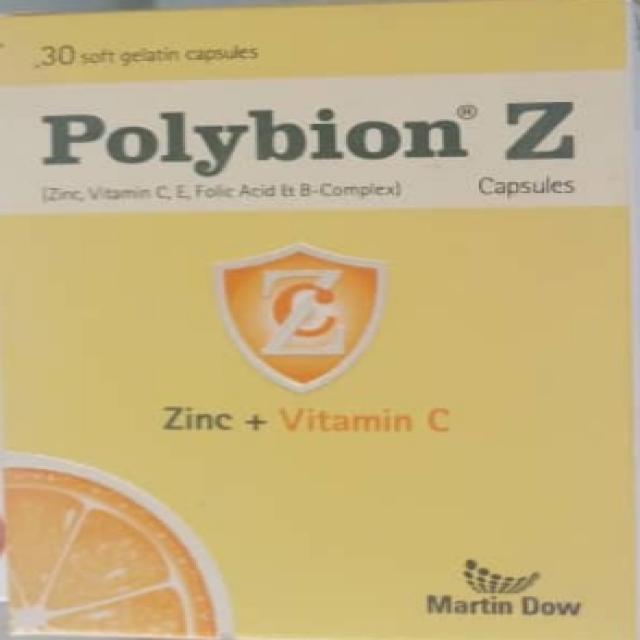drug-name: (42, 99, 590, 178)
